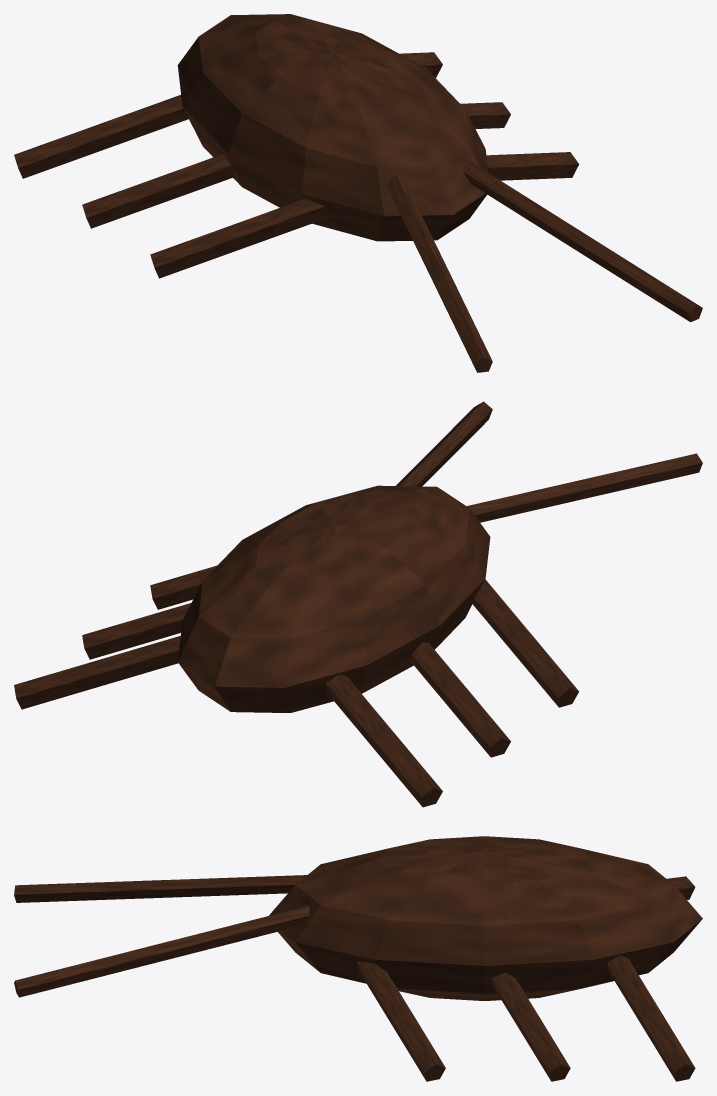
File: roach.glb
The picture shows the model from 3 angles, top to bottom: view 1: azimuth 30°, elevation 25°; view 2: azimuth 150°, elevation 25°; view 3: azimuth 270°, elevation 25°; orthographic projection. The views are drawn at different scales.
Parts seen in each view (by area): view 1: roach__BODY; view 2: roach__BODY; view 3: roach__BODY.
Boxes of the visible parts, x1,y1,x2,y2 form: roach__BODY: (14,14,702,372); roach__BODY: (14,401,702,807); roach__BODY: (14,836,702,1081).
Size of the model in its own units: 0.072 by 0.0245 by 0.1104.
Materials: 1 (1 with a texture image).
